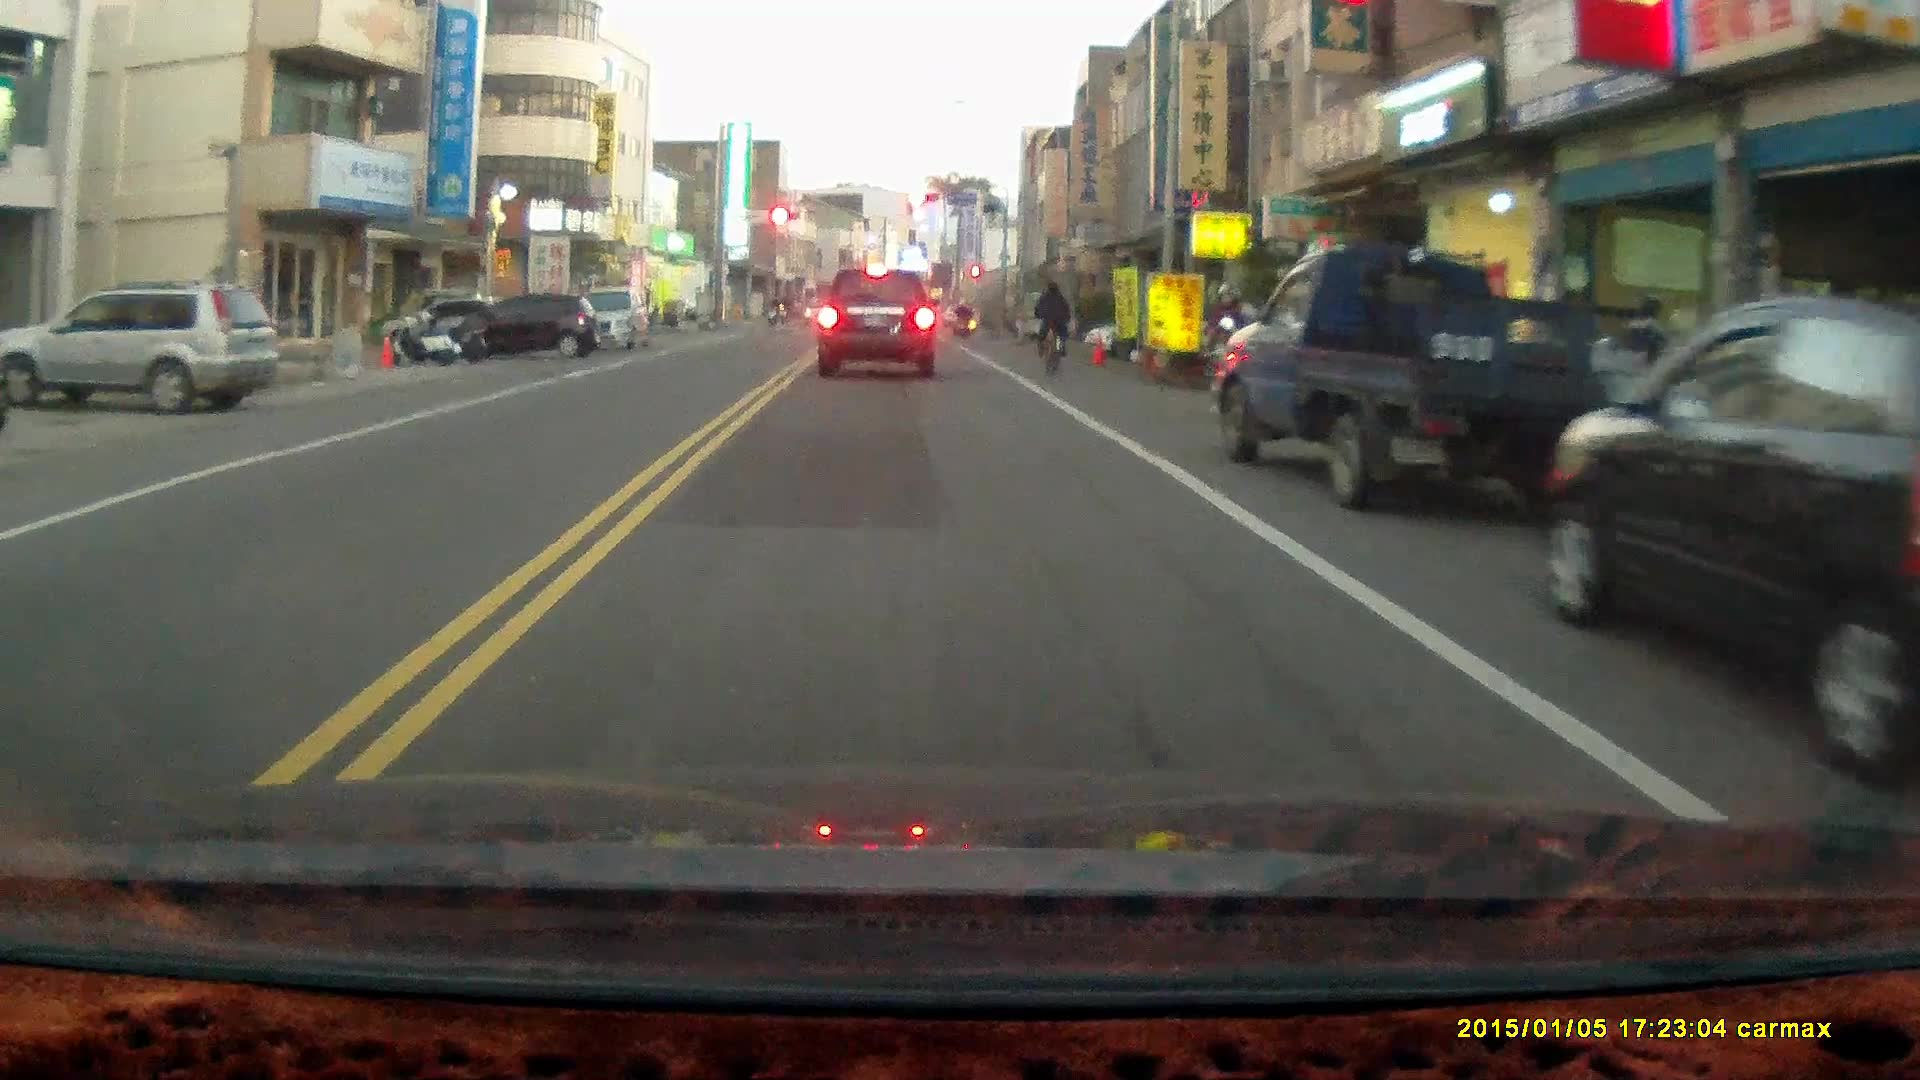pedestrian: (1206, 284, 1245, 403)
rider: (1033, 280, 1072, 381)
vehicle: (1551, 299, 1920, 729), (1203, 244, 1669, 513), (4, 279, 285, 412), (818, 271, 942, 379), (446, 294, 607, 358), (549, 285, 653, 353)
